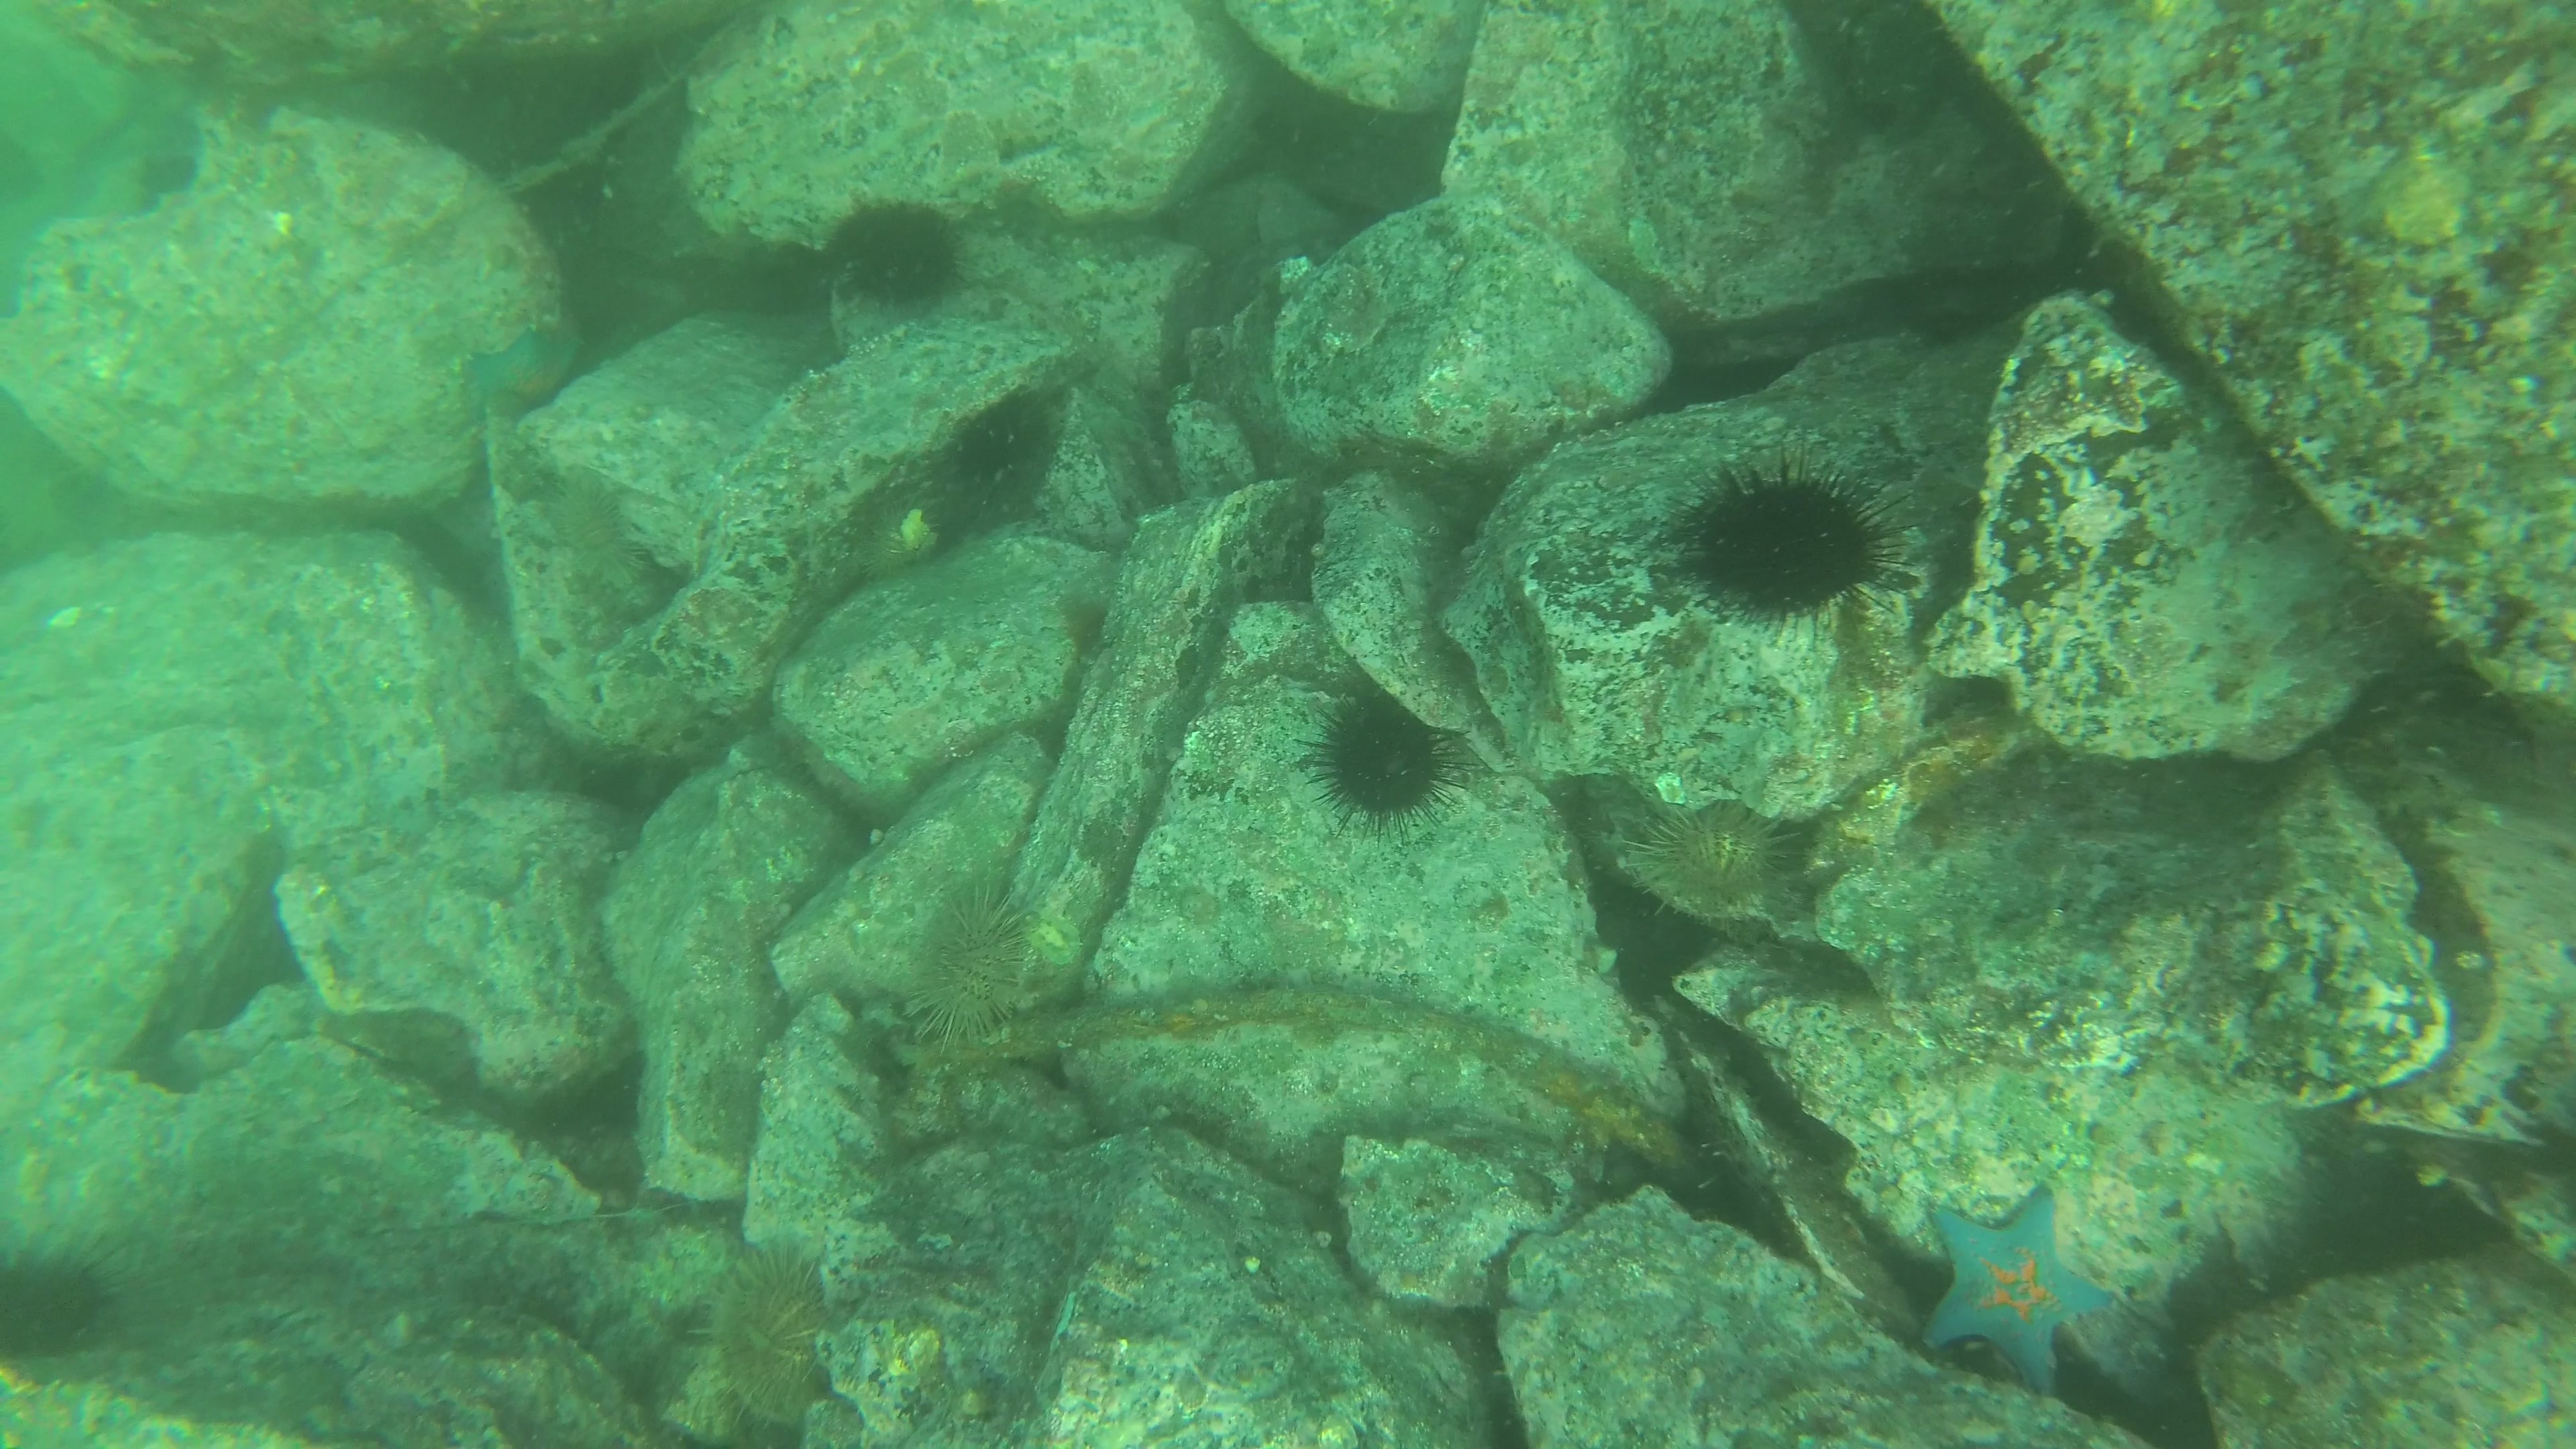echinus: (1668, 476, 1891, 610), (908, 883, 1039, 1040), (1313, 694, 1453, 833), (718, 1260, 835, 1422), (821, 198, 975, 311), (1637, 801, 1790, 915), (4, 1254, 106, 1366), (952, 387, 1040, 488)
starfish: (1914, 1194, 2109, 1399), (467, 334, 579, 423)
